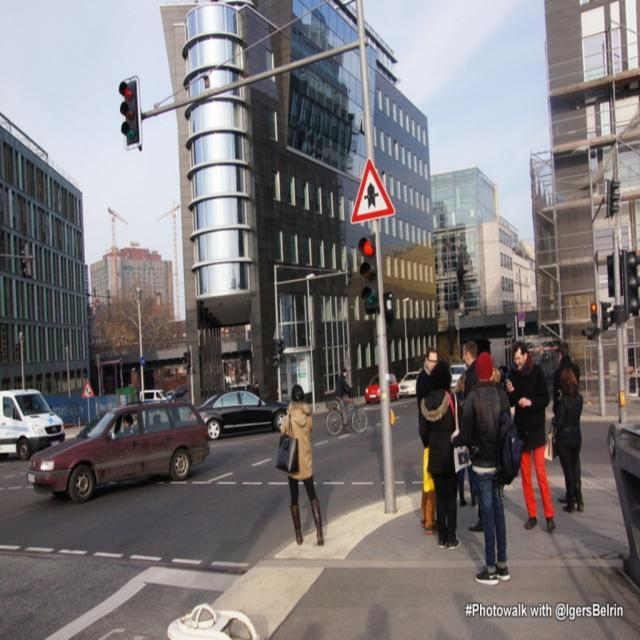off traffic light: (624, 248, 639, 318), (605, 251, 622, 299), (606, 177, 621, 219)
road_sign: (347, 153, 400, 224)
traffic light: (358, 232, 381, 315), (119, 73, 143, 151), (591, 300, 598, 323)
